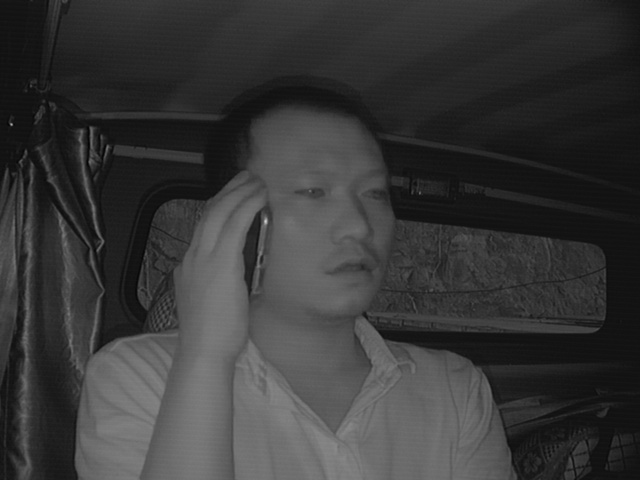hand: (166, 172, 283, 347)
